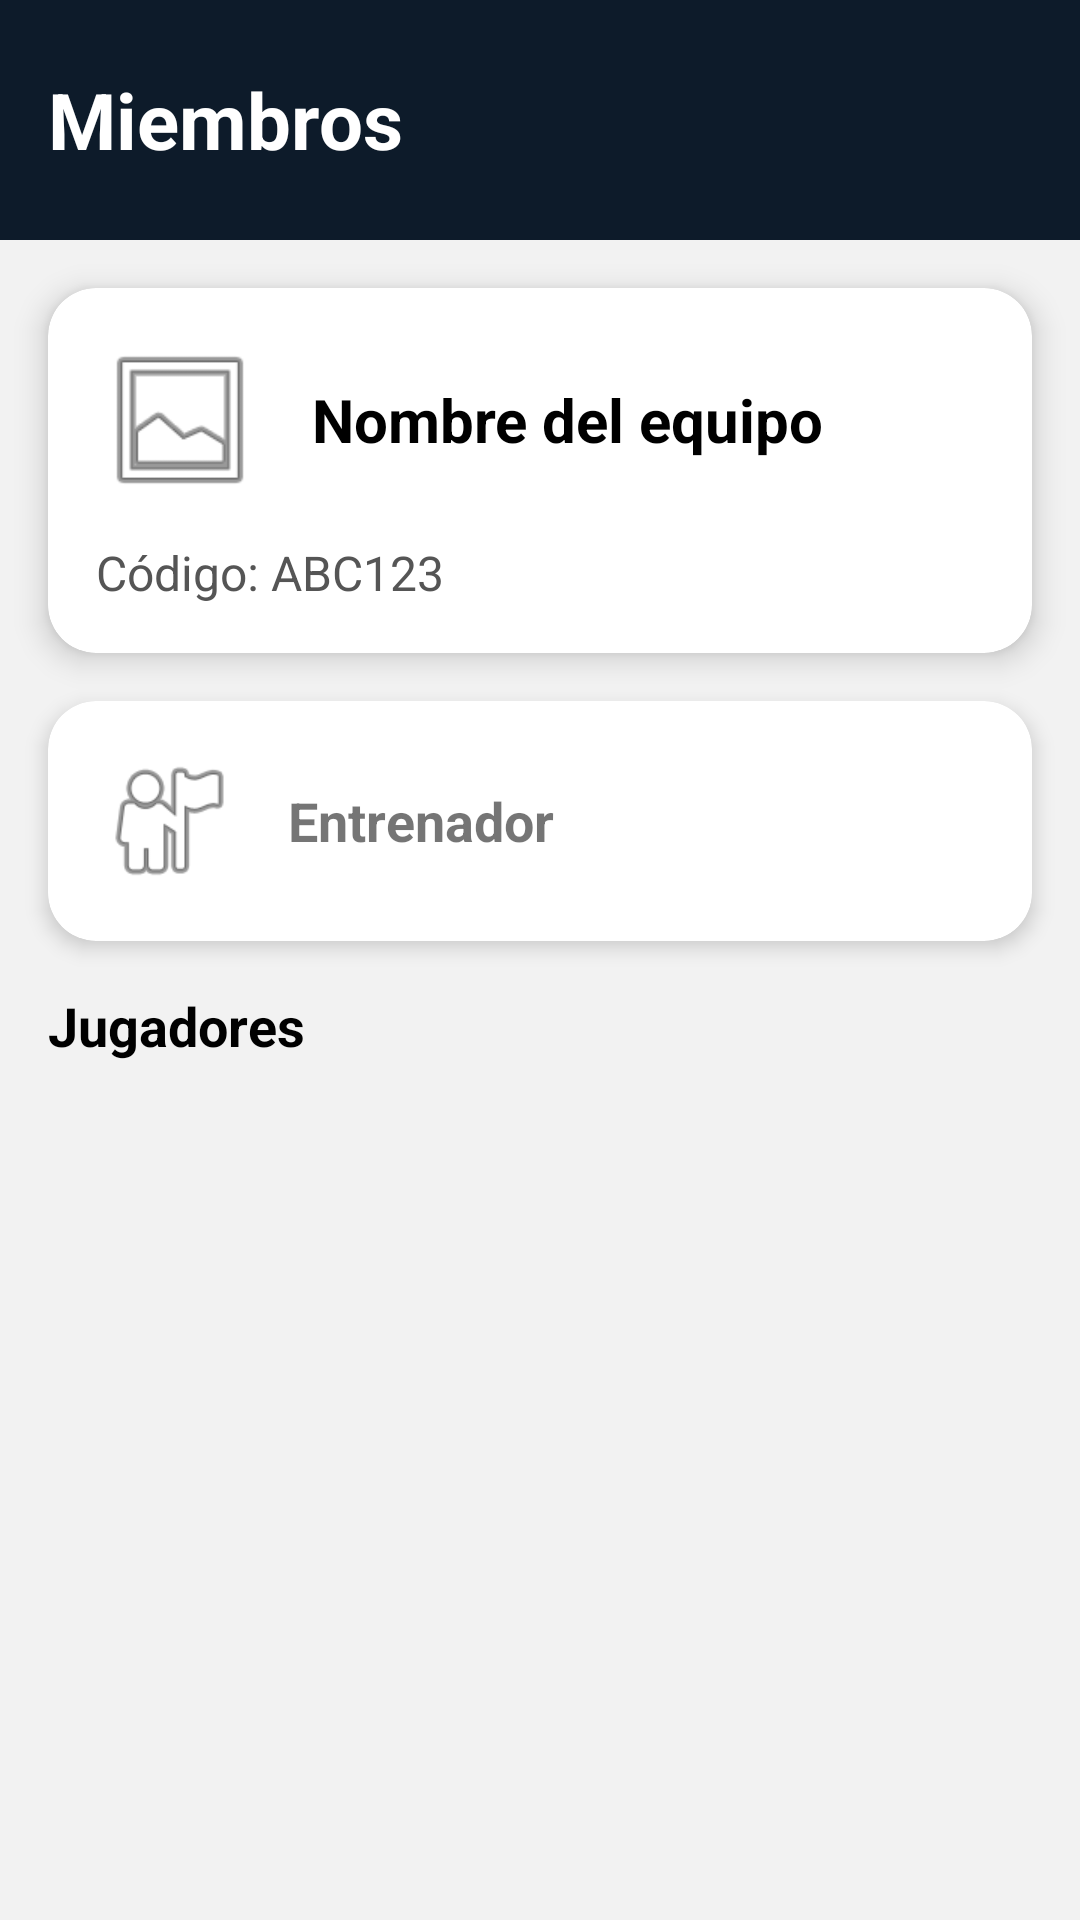

Where icons sit on this 1080x1920 app screen, as (x1, y1, x2, y2):
gallery: (117, 356, 243, 484)
